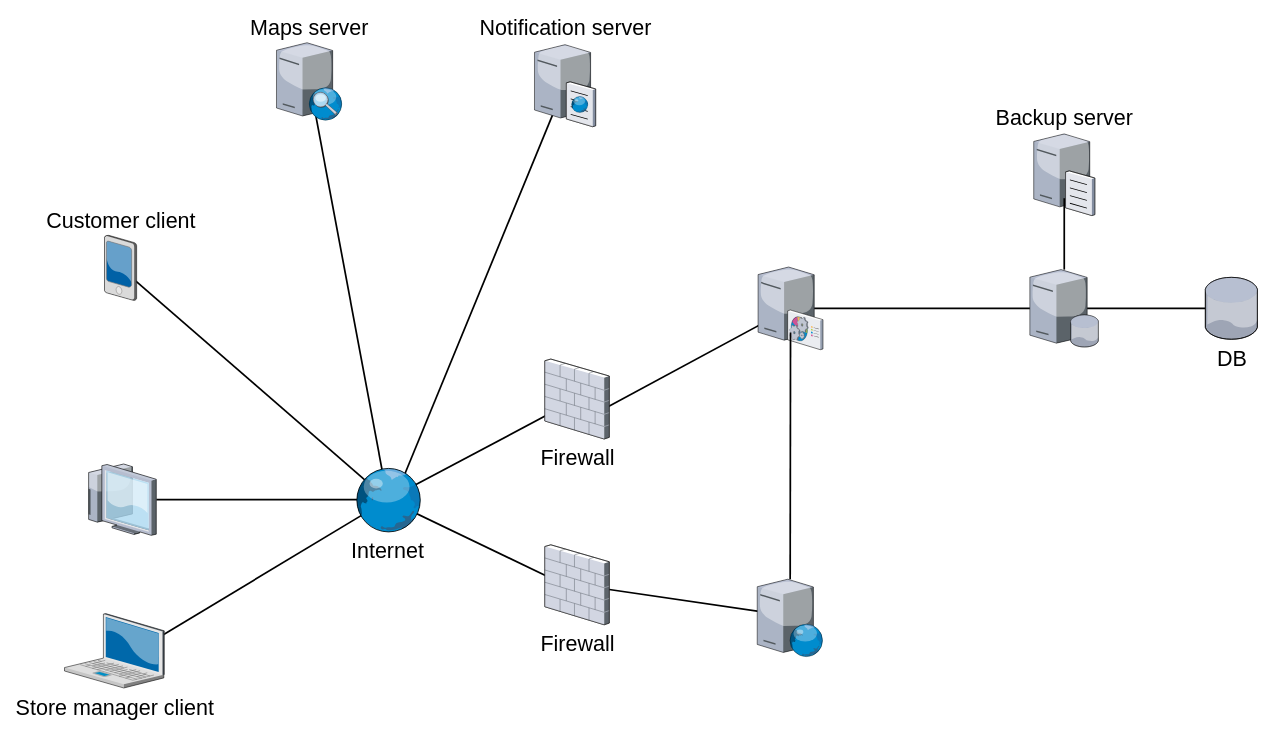
Some shapes in this 1273 by 735 pixel diagram are drawn without their labels. Here are the shapes that lost their labels. From the top down, the centre of each, then its label:
At (x=790, y=308): "Application server".
At (x=1063, y=308): "DBMS".
At (x=120, y=499): "Employee client".
At (x=790, y=617): "Web server".
